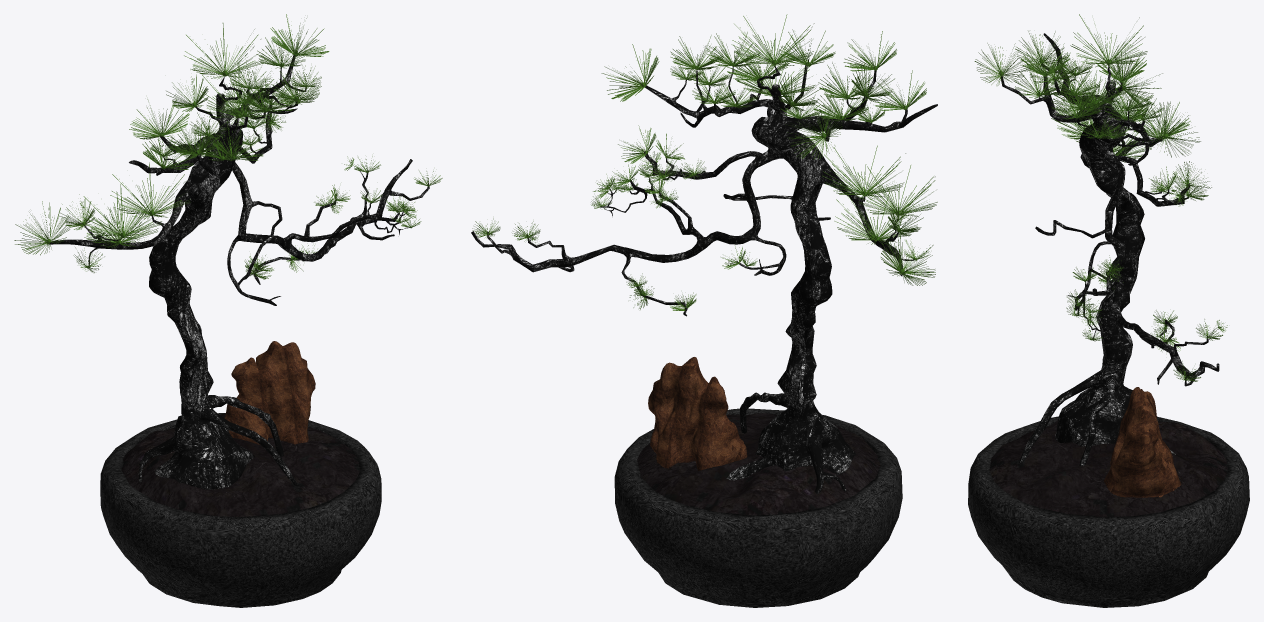
The picture shows the model from 3 angles, left to right: view 1: azimuth 30°, elevation 25°; view 2: azimuth 150°, elevation 25°; view 3: azimuth 270°, elevation 25°; orthographic projection. The views are drawn at different scales.
Parts seen in each view (by area): view 1: Model, Line100, Line048, Line072, Line071, Line069, Line054, Line059, Line074, Line049, Line050, Line057 (+6 smaller); view 2: Model, Line100, Line048, Line071, Line072, Line074, Line054, Line069, Line049, Line059, Line050, Line063 (+5 smaller); view 3: Model, Line100, Line048, Line049, Line050, Line056, Line059, Line057, Line054, Line068, Line063, Line051 (+8 smaller).
Part boxes in pixels (x1,y1,x2,y2): Model: [49, 55, 429, 607]; Line100: [224, 341, 315, 444]; Line048: [184, 23, 264, 79]; Line072: [82, 184, 161, 240]; Line071: [110, 162, 190, 219]; Line069: [14, 201, 69, 255]; Line054: [129, 99, 189, 139]; Line059: [198, 63, 278, 124]; Line074: [80, 191, 158, 247]; Line049: [270, 14, 329, 56]; Line050: [237, 70, 298, 112]; Line057: [220, 78, 274, 120]; Model: [471, 62, 937, 607]; Line100: [648, 357, 747, 470]; Line048: [731, 14, 814, 68]; Line071: [822, 145, 905, 199]; Line072: [855, 165, 937, 218]; Line074: [834, 191, 914, 244]; Line054: [785, 103, 842, 159]; Line069: [881, 233, 935, 285]; Line049: [601, 44, 659, 101]; Line059: [734, 49, 815, 96]; Line050: [726, 38, 789, 81]; Line063: [670, 35, 723, 70]; Model: [968, 33, 1249, 607]; Line100: [1104, 387, 1181, 497]; Line048: [1070, 14, 1147, 67]; Line049: [1143, 102, 1200, 157]; Line050: [1050, 69, 1111, 116]; Line056: [974, 43, 1027, 85]; Line059: [1055, 57, 1131, 109]; Line057: [1027, 43, 1080, 85]; Line054: [1111, 51, 1162, 107]; Line068: [1051, 82, 1103, 119]; Line063: [1101, 76, 1153, 112]; Line051: [1015, 31, 1068, 73].
Bounding box in the file's own units: 12325 × 14361 × 6912.
Materials: 5 (5 with a texture image).
